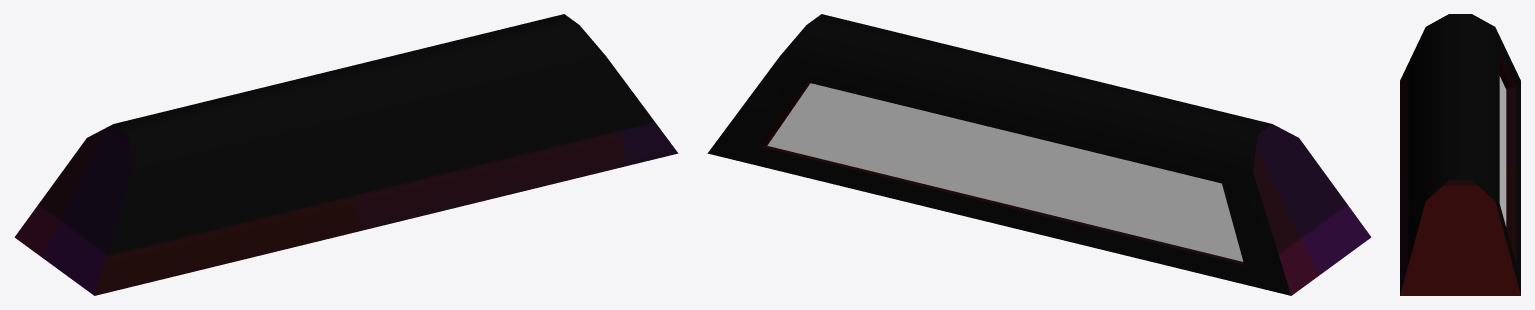
The model's file is Hea_Player_Nametag_Desk.fbx.
3 views of the same model, side by side, from view 1: azimuth 30°, elevation 25°; view 2: azimuth 150°, elevation 25°; view 3: azimuth 270°, elevation 25° (orthographic). The views are drawn at different scales.
Parts seen in each view (by area): view 1: NameTag_Desk; view 2: NameTag_Desk; view 3: NameTag_Desk.
Boxes of the visible parts, x1,y1,x2,y2 form: NameTag_Desk: (14,14,678,295); NameTag_Desk: (707,14,1371,295); NameTag_Desk: (1400,14,1520,295).
Size of the model in its own units: 22.65 by 4.48 by 5.38.
